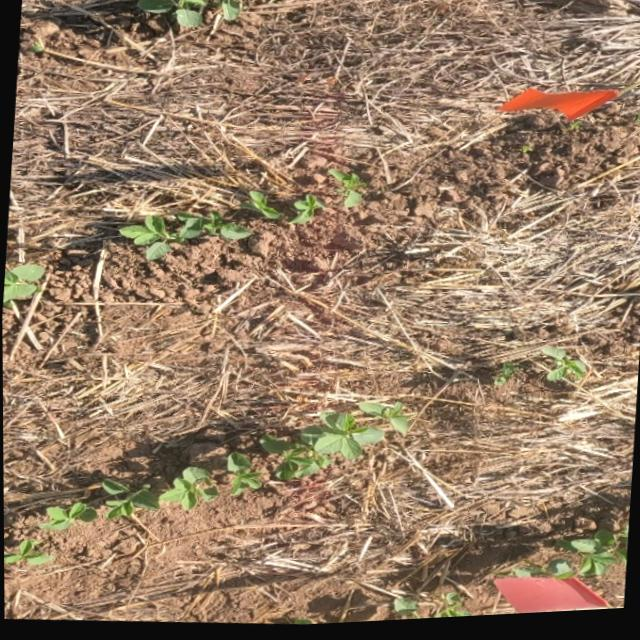soy_plant: (39, 453, 264, 531), (259, 405, 409, 483), (119, 212, 250, 261), (560, 533, 627, 581), (241, 193, 323, 226), (139, 0, 242, 26), (393, 595, 471, 624), (2, 262, 44, 313), (541, 353, 585, 386), (328, 171, 365, 209), (3, 538, 49, 564), (494, 366, 518, 389)
